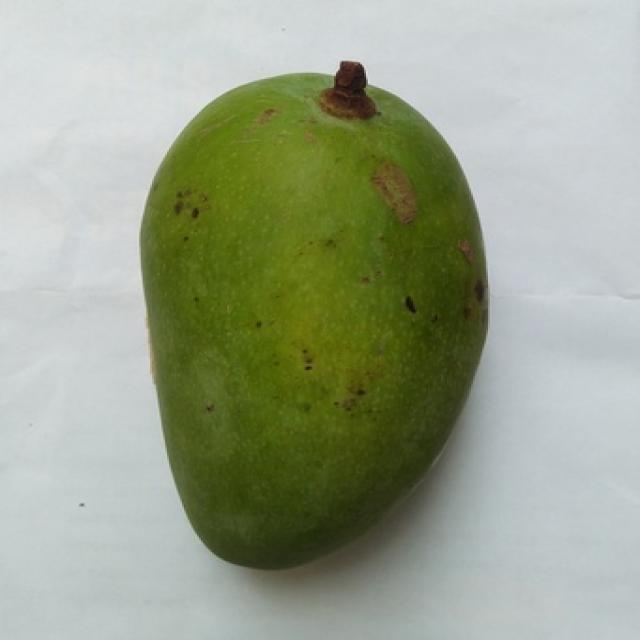Mango: (141, 74, 486, 567)
